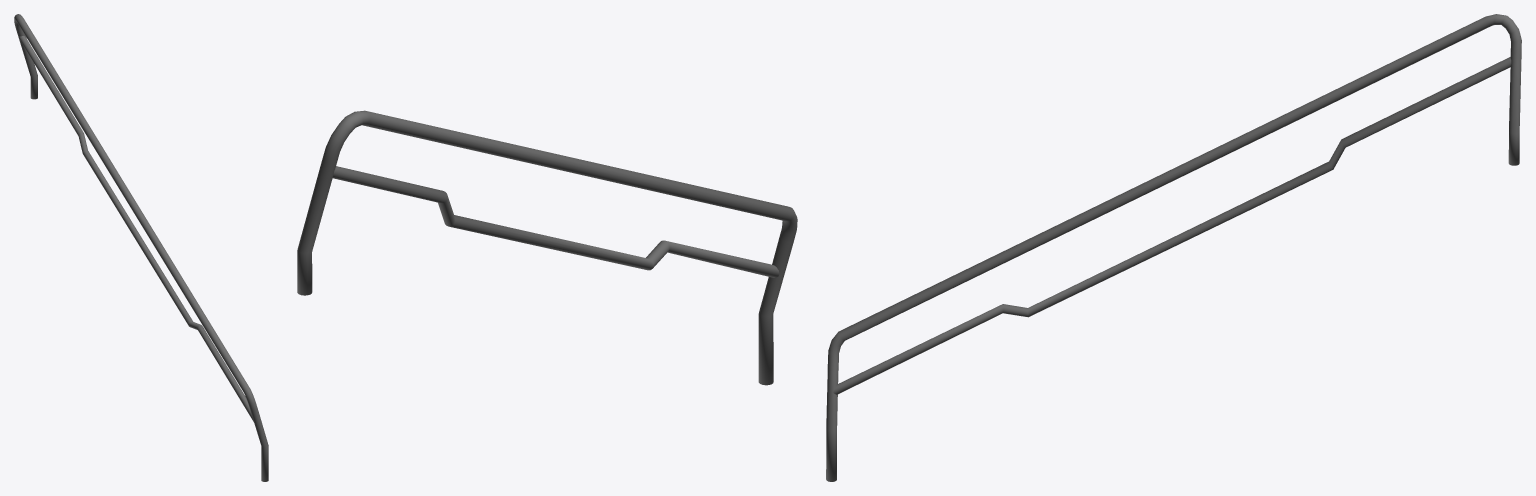
The model's file is prop_rail_incline_long_l.glb.
The picture shows the model from 3 angles, left to right: view 1: azimuth 30°, elevation 25°; view 2: azimuth 150°, elevation 25°; view 3: azimuth 270°, elevation 25°; orthographic projection. The views are drawn at different scales.
Visible parts, largest first — view 1: Prop_Rail_Incline_Long_L; view 2: Prop_Rail_Incline_Long_L; view 3: Prop_Rail_Incline_Long_L.
Part boxes in pixels (<box>): Prop_Rail_Incline_Long_L: <box>14,14,268,481</box>; Prop_Rail_Incline_Long_L: <box>297,110,797,385</box>; Prop_Rail_Incline_Long_L: <box>826,14,1521,481</box>.
Size of the model in its own units: 0.2545 by 2.72 by 3.8.
Materials: 1 (1 with a texture image).
